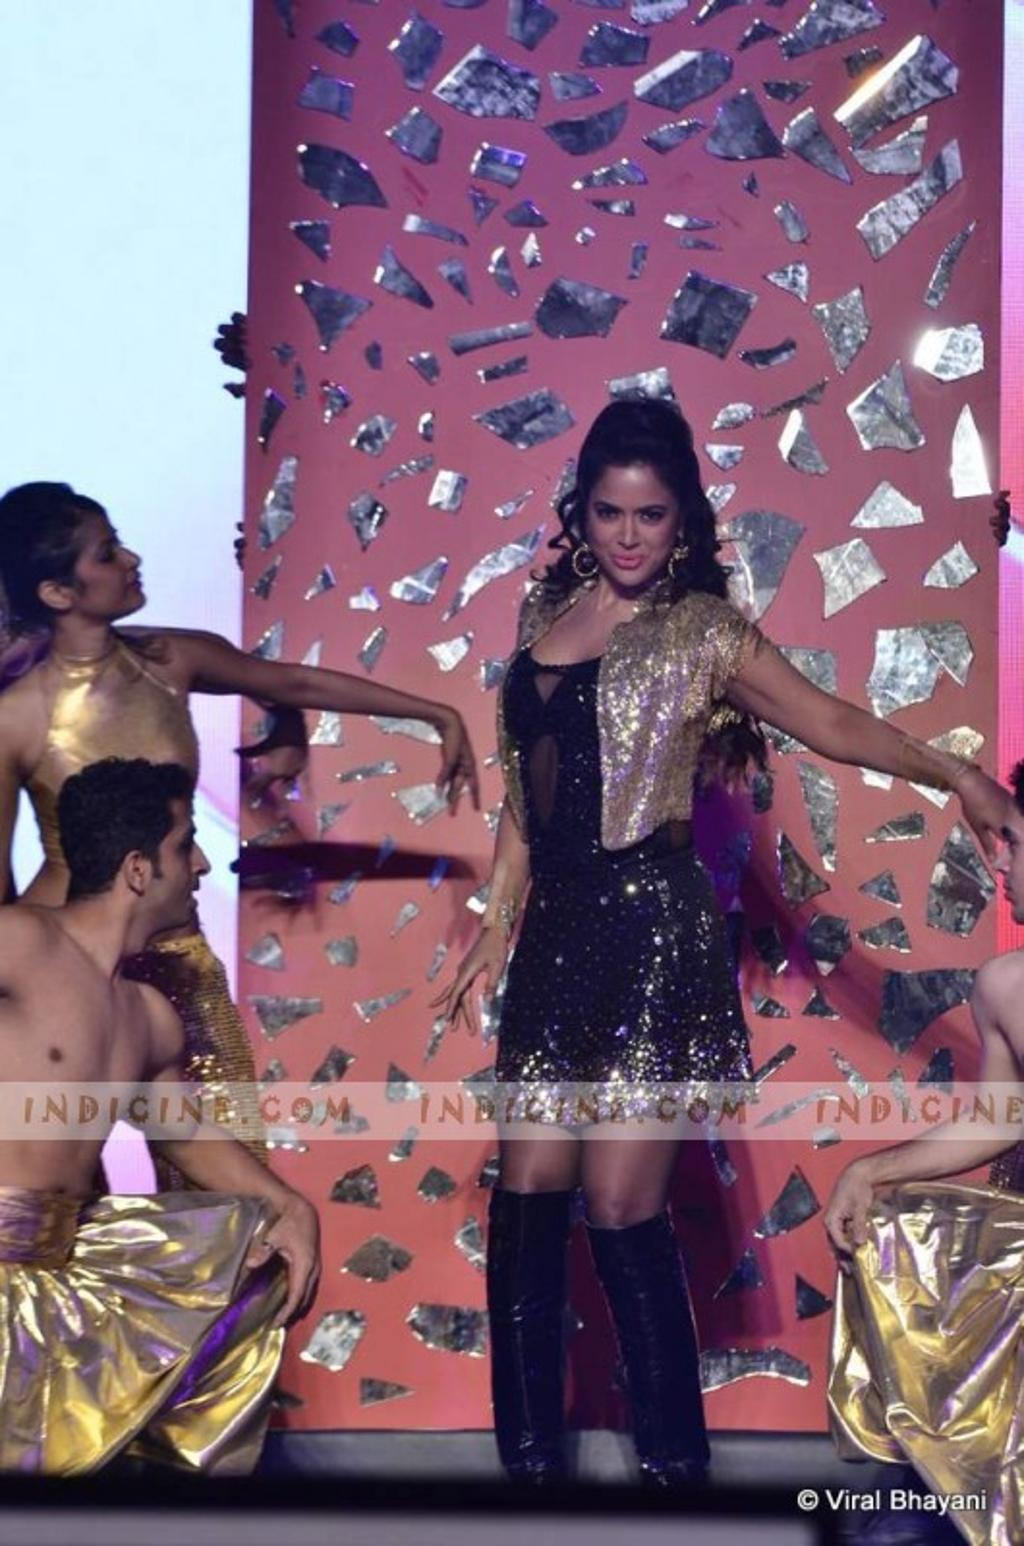face: (583, 465, 680, 586), (127, 788, 203, 921), (60, 504, 148, 610)
